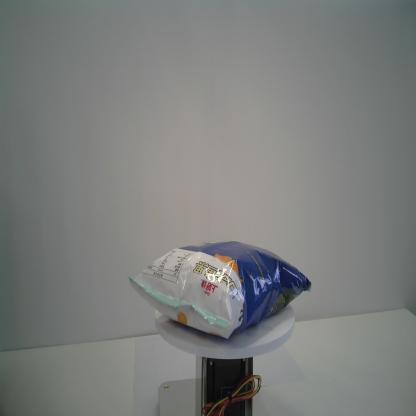Puffed Food: (127, 240, 312, 341)
